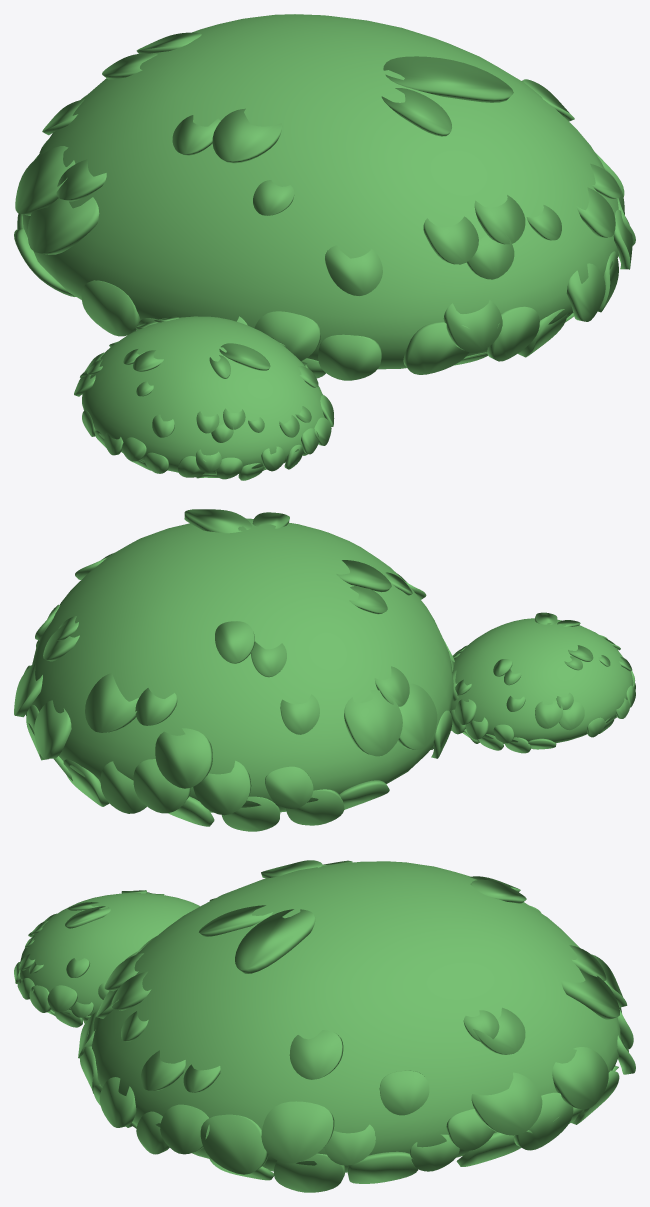
The model's file is StruikContext2.fbx.
The picture shows the model from 3 angles, top to bottom: view 1: azimuth 30°, elevation 25°; view 2: azimuth 150°, elevation 25°; view 3: azimuth 270°, elevation 25°; orthographic projection. The views are drawn at different scales.
Parts seen in each view (by area): view 1: Struikk; view 2: Struikk; view 3: Struikk.
Boxes of the visible parts, <box> form: Struikk: <box>14,14,635,480</box>; Struikk: <box>14,509,635,831</box>; Struikk: <box>14,860,635,1192</box>.
Bounding box in the file's own units: 79.11 × 30.95 × 80.31.
